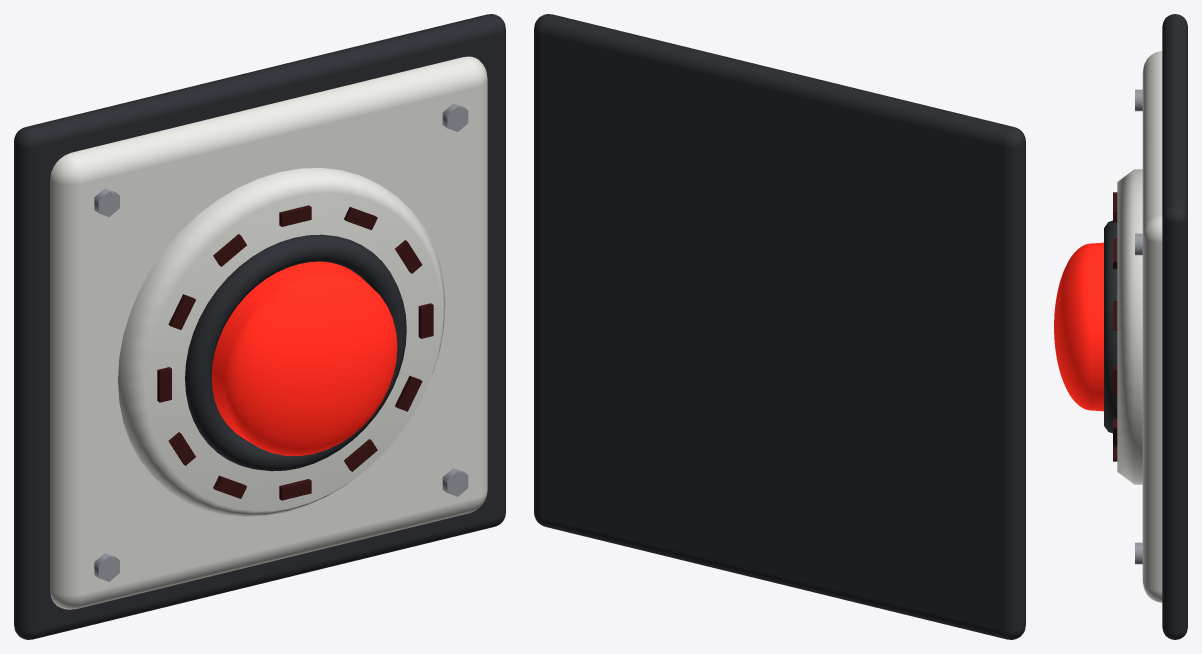
Rendered from push_classic_wall.glb.
3 views of the same model, side by side, from view 1: azimuth 30°, elevation 25°; view 2: azimuth 150°, elevation 25°; view 3: azimuth 270°, elevation 25° (orthographic). The views are drawn at different scales.
Visible parts, largest first — view 1: group, cap; view 2: group; view 3: group, cap.
Boxes of the visible parts, box(x1,y1,x2,y2) form: group: box(14, 14, 505, 639); cap: box(211, 261, 397, 455); group: box(534, 14, 1025, 639); group: box(1104, 14, 1187, 639); cap: box(1054, 242, 1103, 411).
Bounding box in the file's own units: 0.56 × 0.56 × 0.1571.
